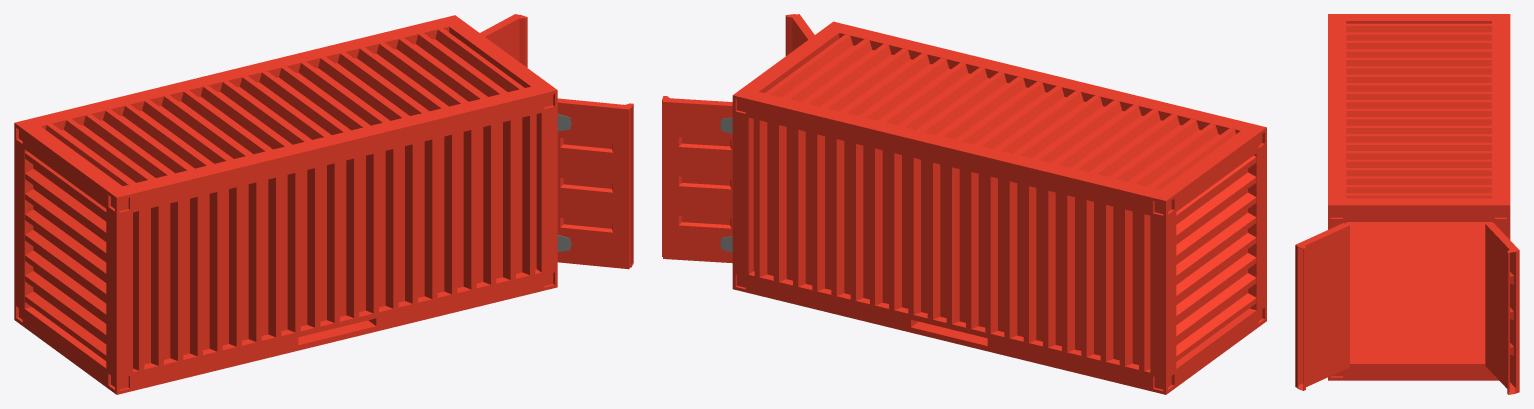
File: SeaContainer.fbx
3 renders of one model, left to right at view 1: azimuth 30°, elevation 25°; view 2: azimuth 150°, elevation 25°; view 3: azimuth 270°, elevation 25°, orthographic. The views are drawn at different scales.
Visible parts, largest first — view 1: Cube; view 2: Cube; view 3: Cube.
Boxes of the visible parts, left/top/right/bottom form: Cube: left=14, top=14, right=633, bottom=394; Cube: left=662, top=14, right=1266, bottom=394; Cube: left=1295, top=14, right=1519, bottom=394.
Size of the model in its own units: 1408 by 518 by 601.
